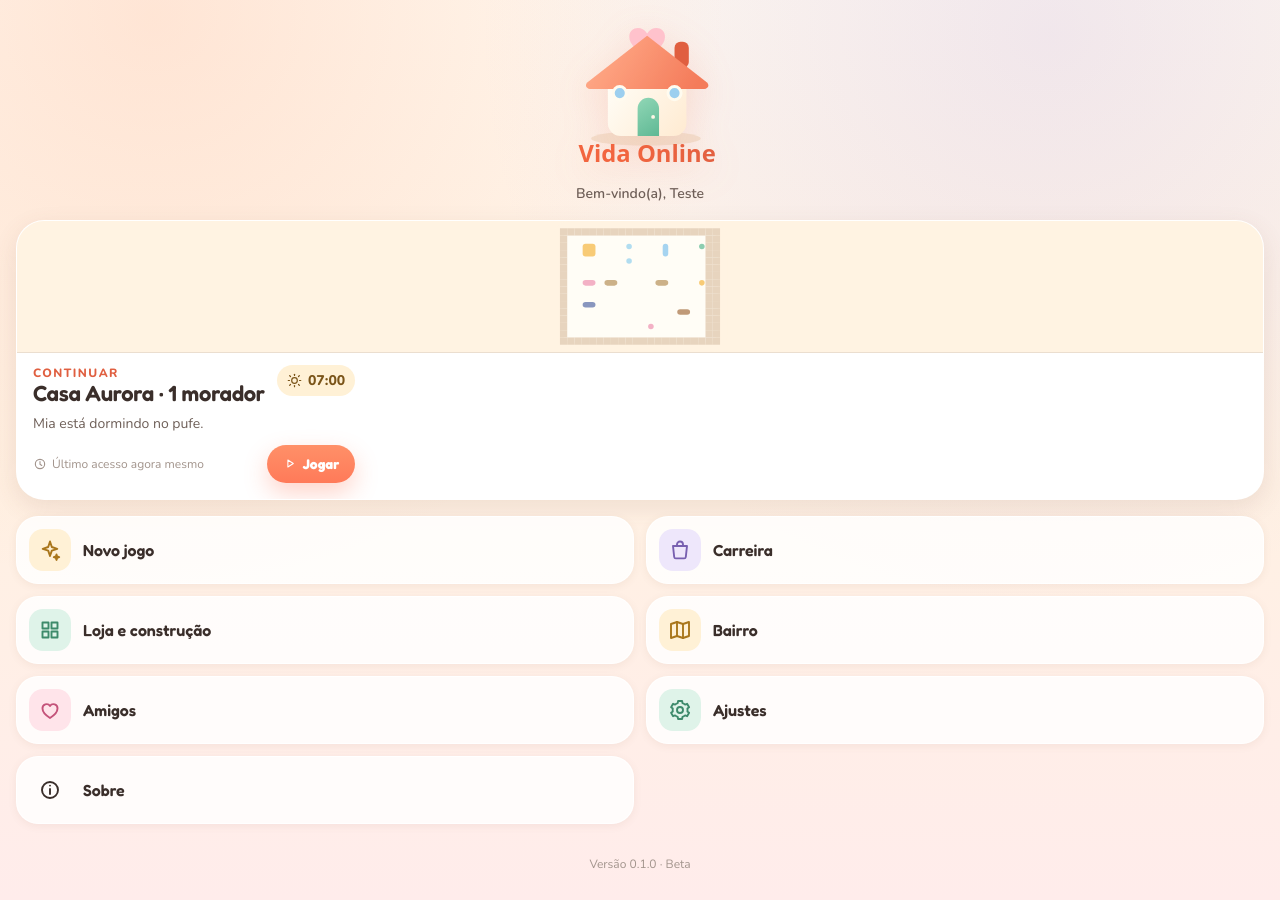
Test: MenuScreen › opens the about sheet and can reset the save after confirmation
Later steps or results of the test are not shown.
(page scrolled)
Click the button "Sobre". click: {"x": 104, "y": 790}
box: [16,756,634,824]
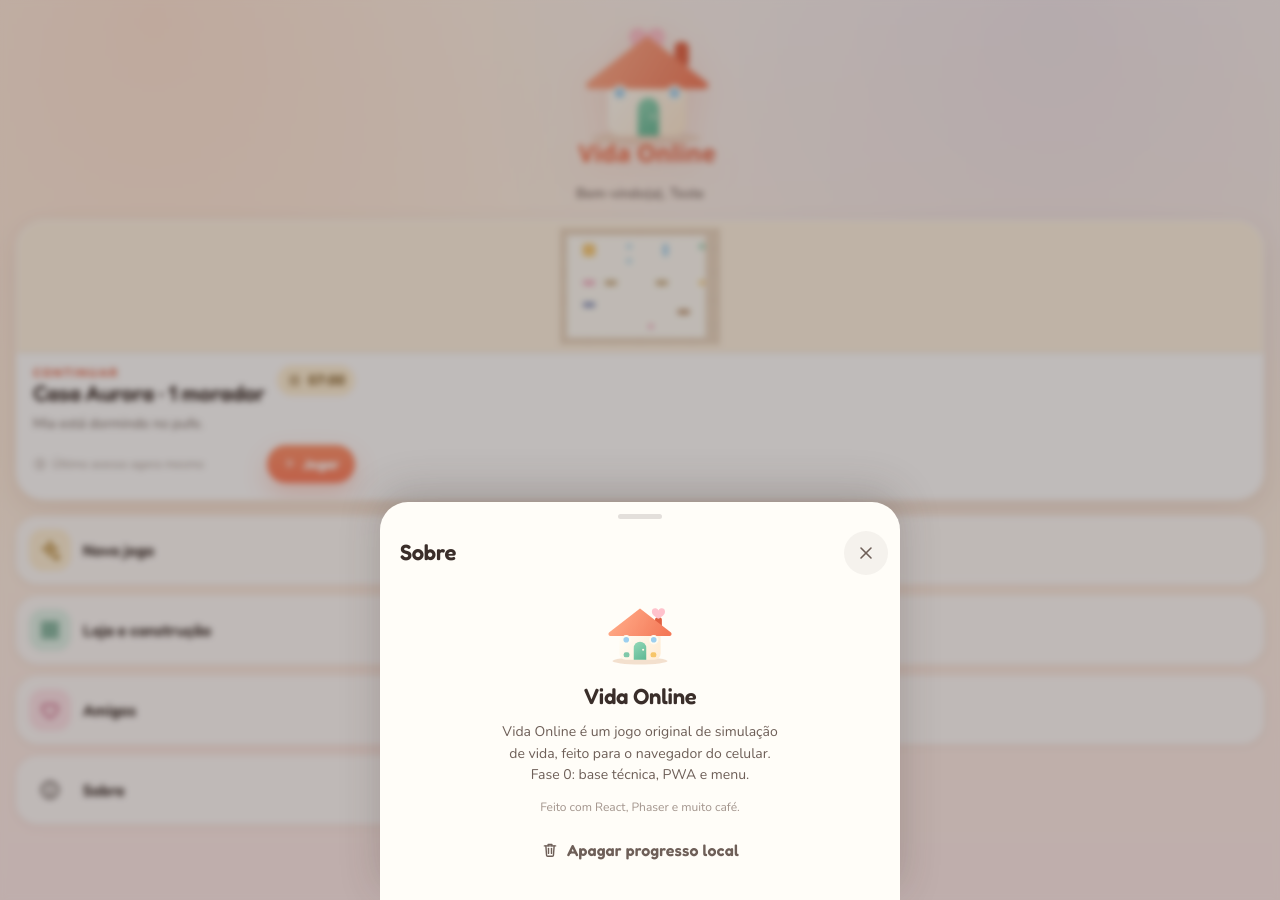
Check: the dialog "Sobre" is shown, box [380,502,900,899]
